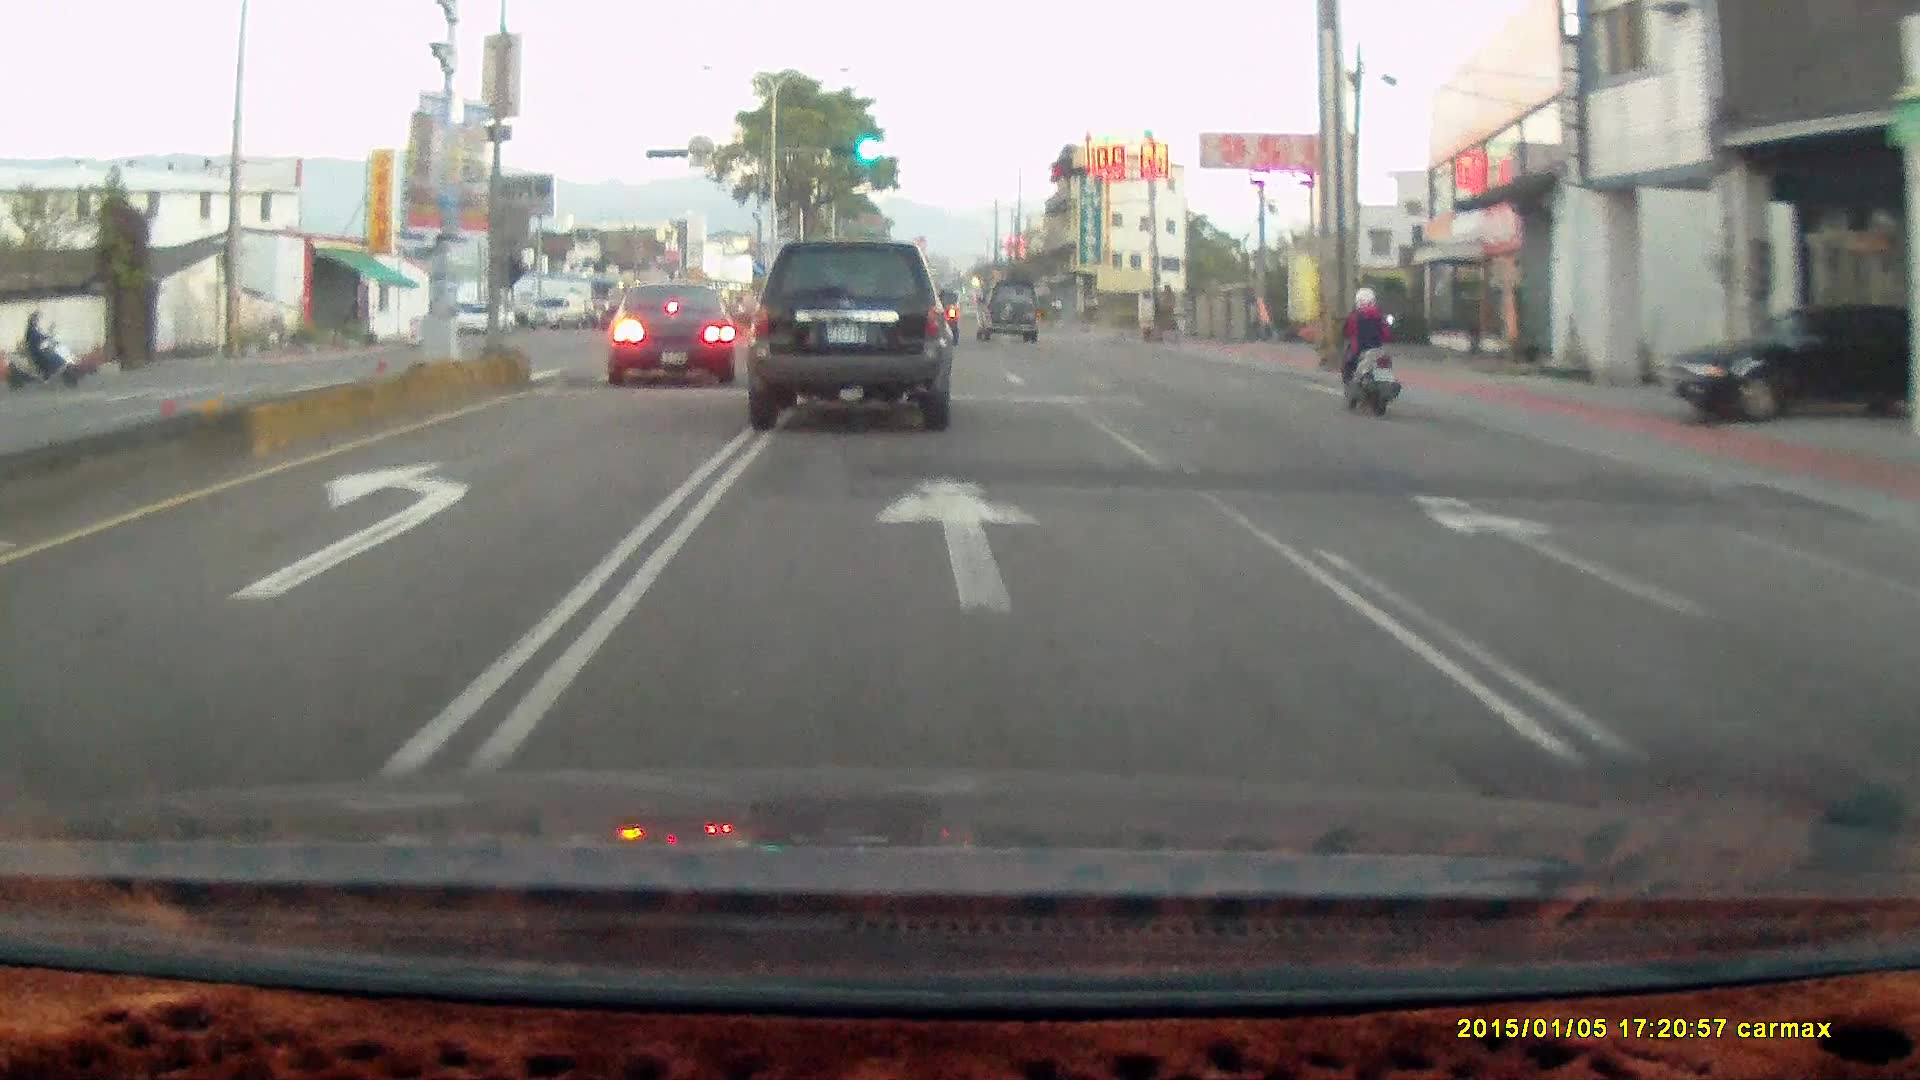rider: (1321, 276, 1413, 425), (1328, 287, 1398, 416), (1, 305, 88, 386)
vehicle: (745, 234, 960, 429), (745, 240, 956, 431), (1660, 300, 1915, 424), (1677, 299, 1884, 428), (603, 281, 746, 389), (602, 281, 739, 388), (974, 279, 1042, 345), (972, 279, 1039, 341), (449, 301, 515, 337), (525, 295, 586, 329), (598, 306, 641, 333)
